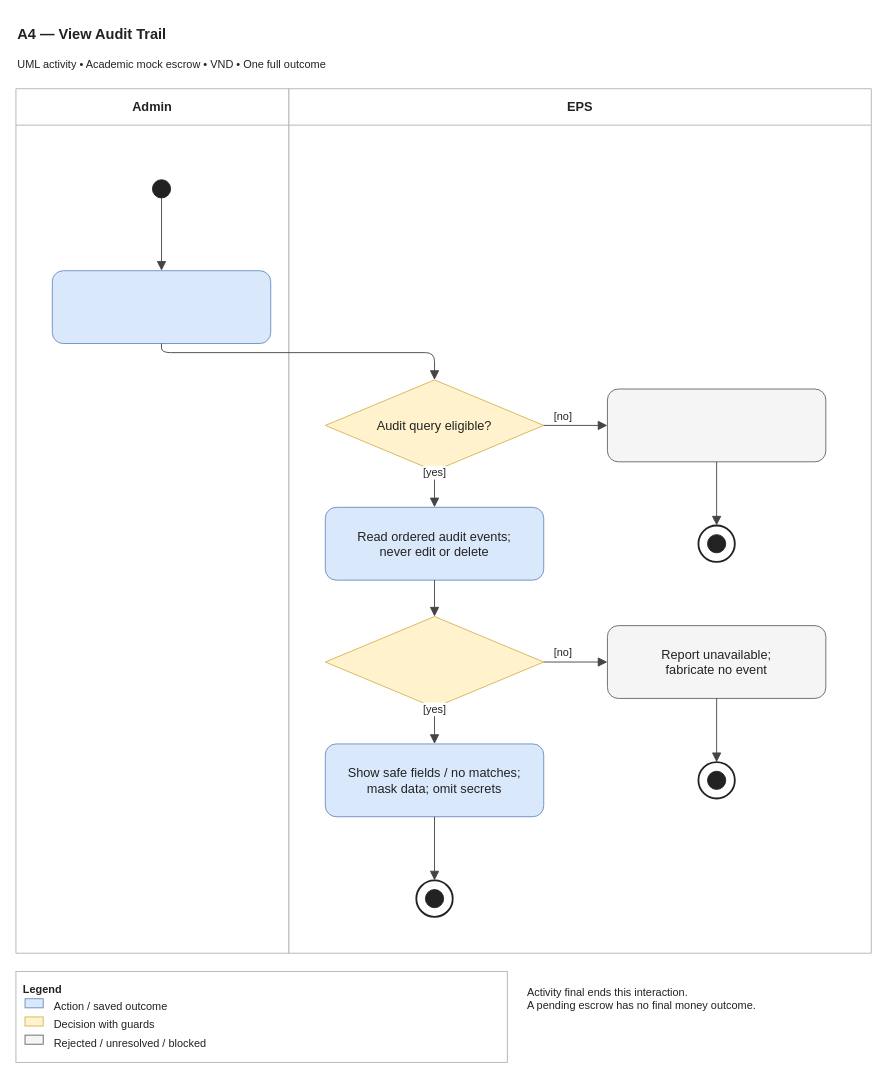
The diagram is 887 pixels wide and 1078 high, and some of its shapes have lost their labels. Each missing label, with the centre of its shape:
Audit results available?: the point at 434,662
Choose reference, dates and event type: the point at 161,307
Deny invalid / unauthorized query; preserve audit: the point at 716,425
